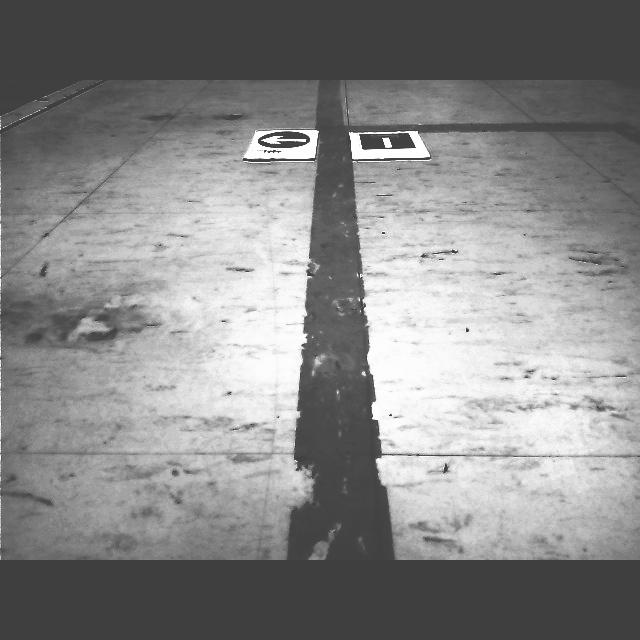DEAD END: (359, 132, 418, 150)
TURN LEFT: (257, 131, 311, 148)
